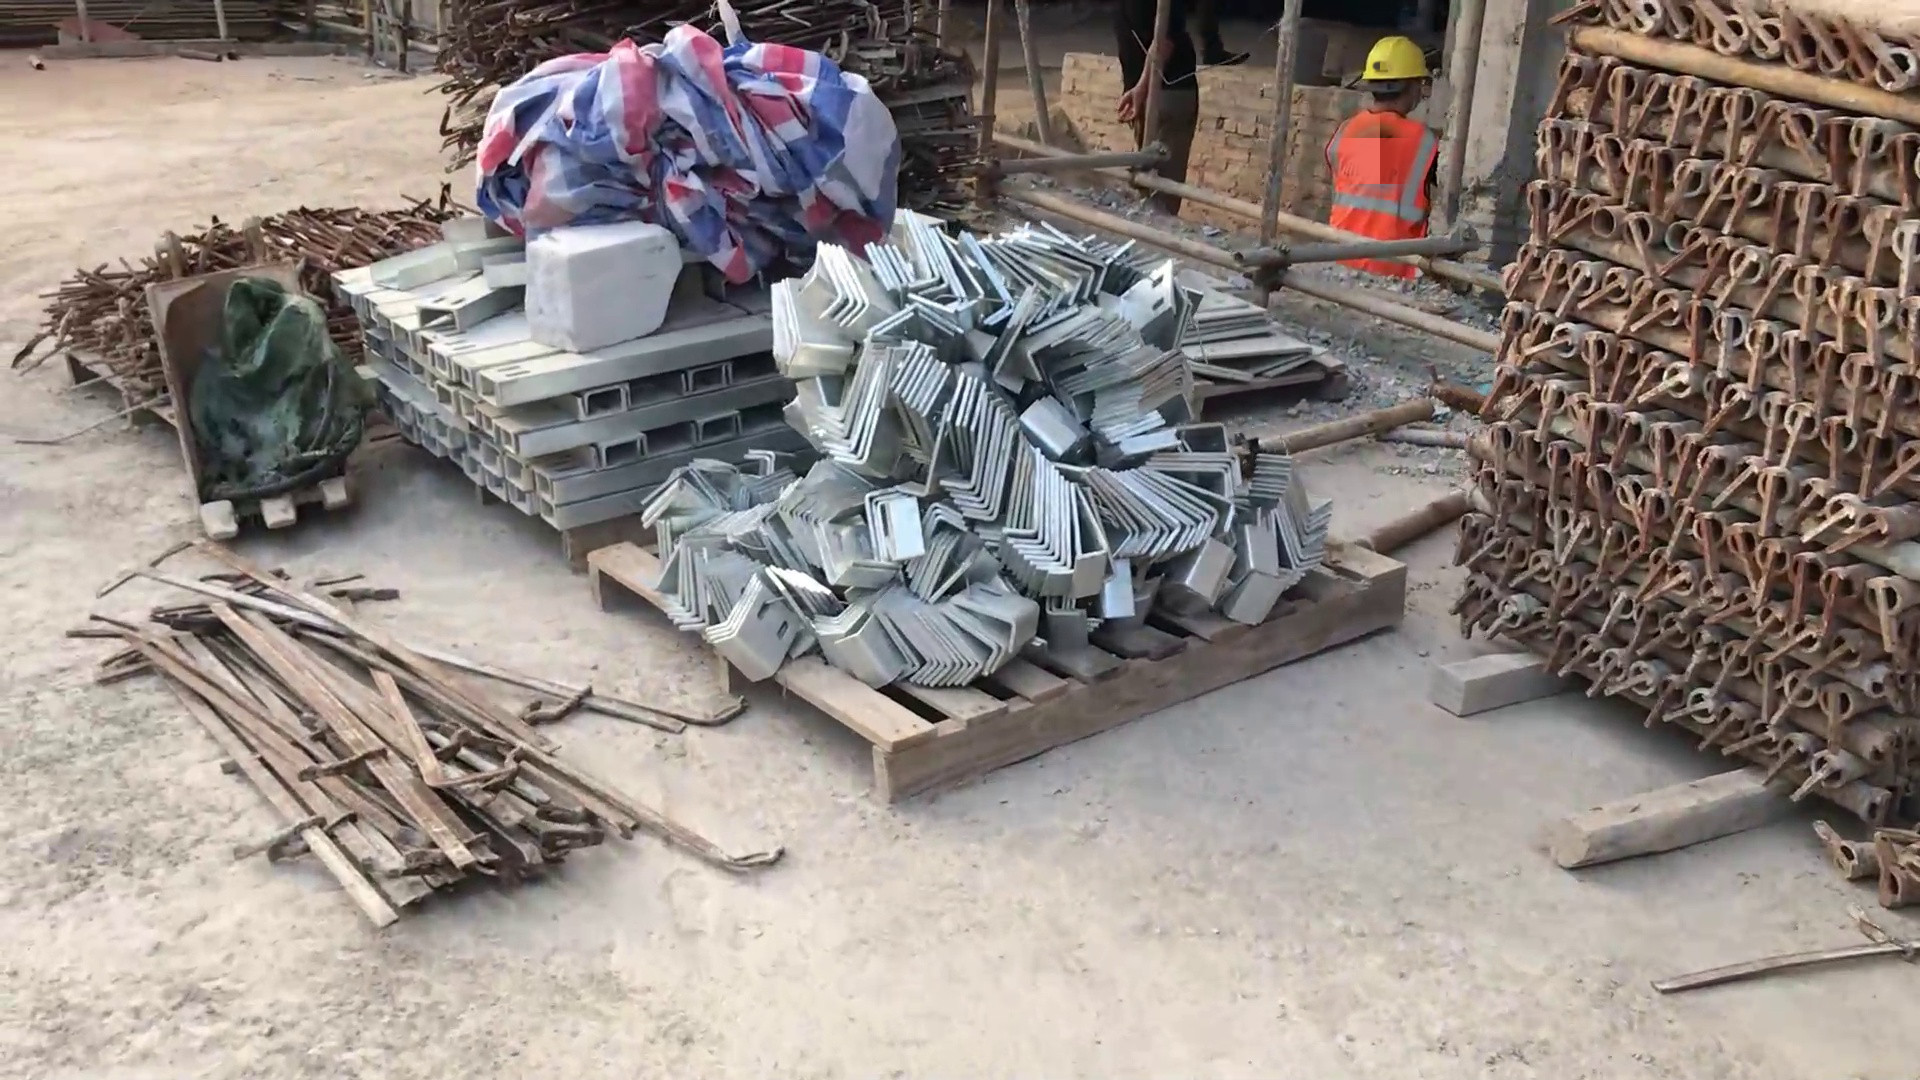helmet: (1359, 29, 1433, 89)
person: (1329, 27, 1456, 276), (1103, 4, 1208, 219)
vest: (1332, 102, 1434, 278)
